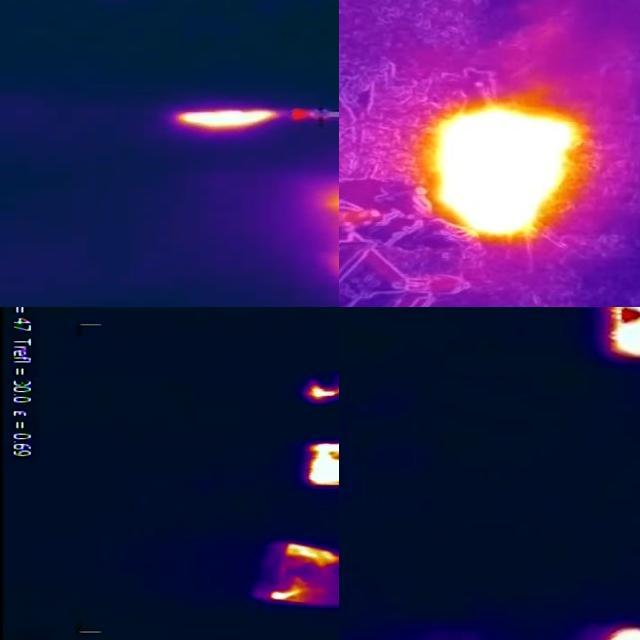fire: (426, 98, 600, 240), (178, 108, 282, 133), (604, 310, 640, 361), (309, 443, 340, 489), (284, 541, 340, 566), (268, 586, 314, 602), (308, 384, 340, 402)
